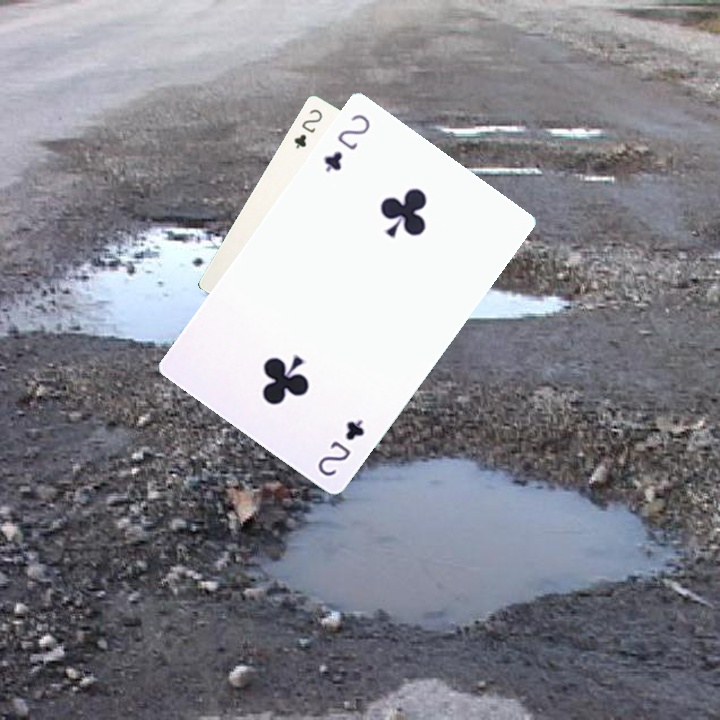2c: (319, 109, 373, 175), (313, 415, 367, 479), (290, 105, 325, 151)
